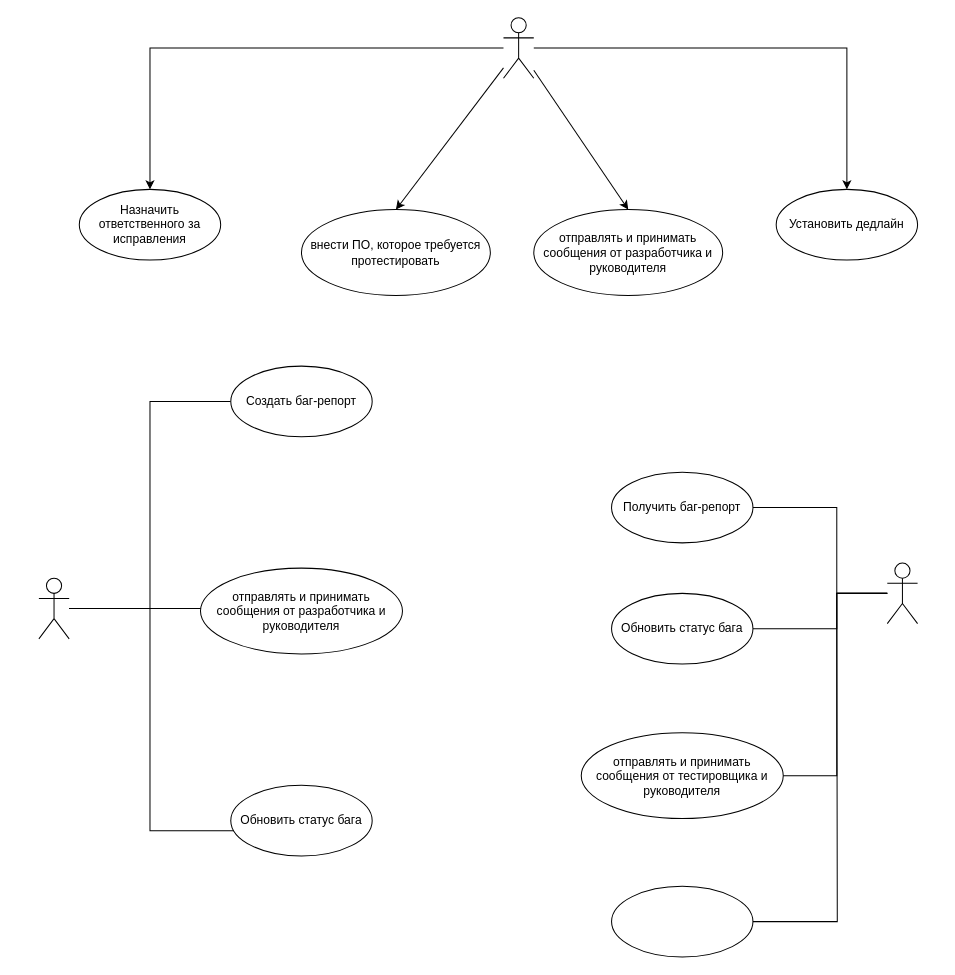
This 955x975 diagram has some shape labels left out. Here are the shapes that lost their labels. From the top down, the centre of each, then its label:
At (518,47): "Руководитель проекта".
At (53,608): "Тестировщик".
At (902,593): "Разработчик".
At (682,921): "Зафиксировать исправления".
